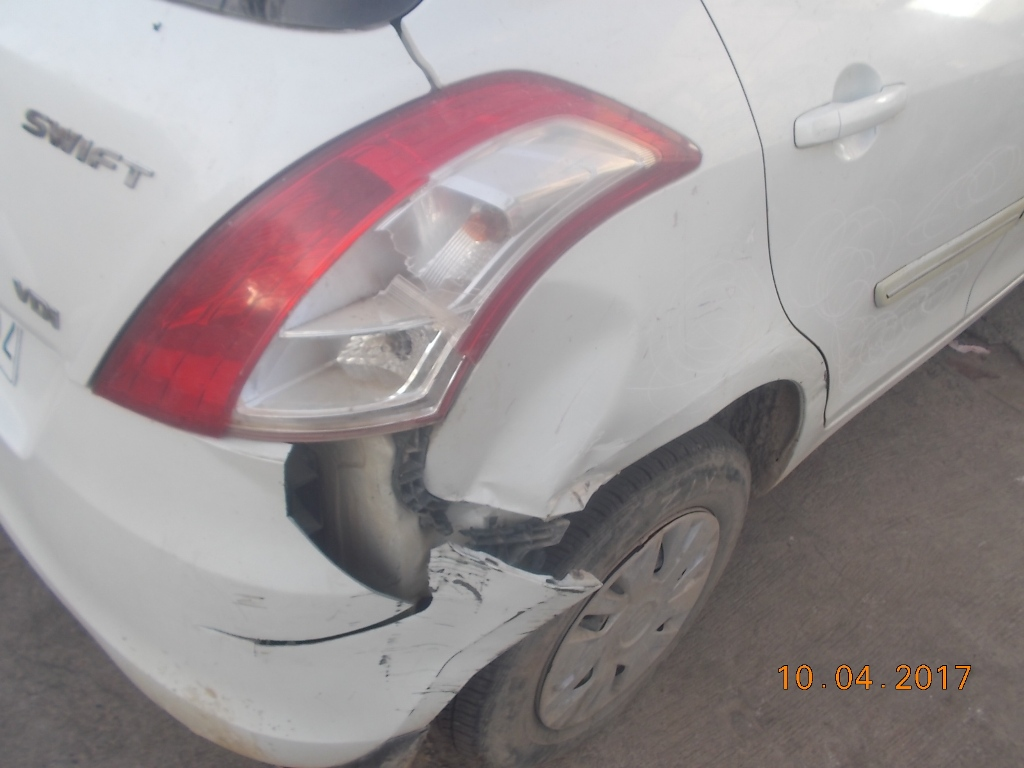Dent: (504, 303, 621, 480)
Dislocation: (430, 490, 579, 622)
Scratch_or_spot: (234, 615, 398, 660)
